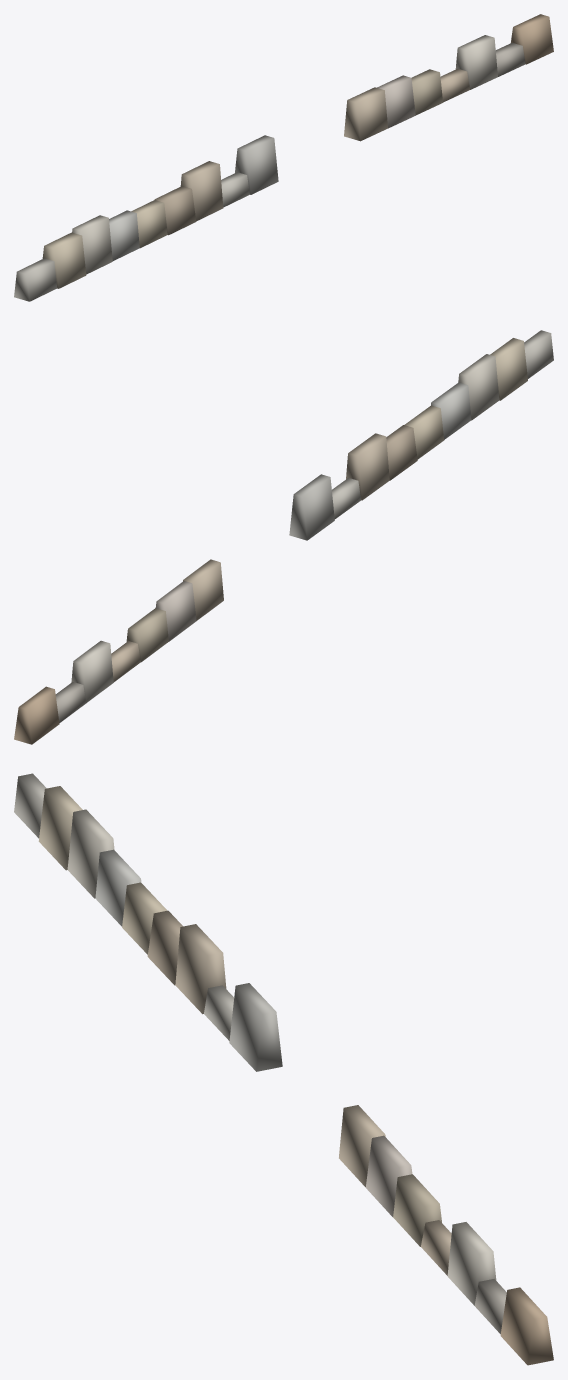
Rendered from farm_0_-3_collision.glb.
3 renders of one model, top to bottom at view 1: azimuth 30°, elevation 25°; view 2: azimuth 210°, elevation 25°; view 3: azimuth 270°, elevation 25°, orthographic. The views are drawn at different scales.
Visible parts, largest first — view 1: geometry_0; view 2: geometry_0; view 3: geometry_0.
Boxes of the visible parts, x1,y1,x2,y2 form: geometry_0: (14,14,553,301); geometry_0: (14,330,553,744); geometry_0: (14,773,553,1365).
Bounding box in the file's own units: 26.66 × 3.62 × 12.97.
